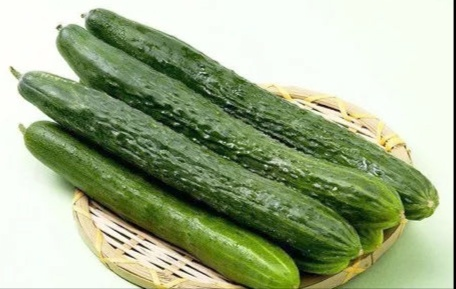cucumber: (85, 2, 433, 207), (56, 26, 411, 213), (15, 67, 354, 253), (17, 118, 295, 287)
